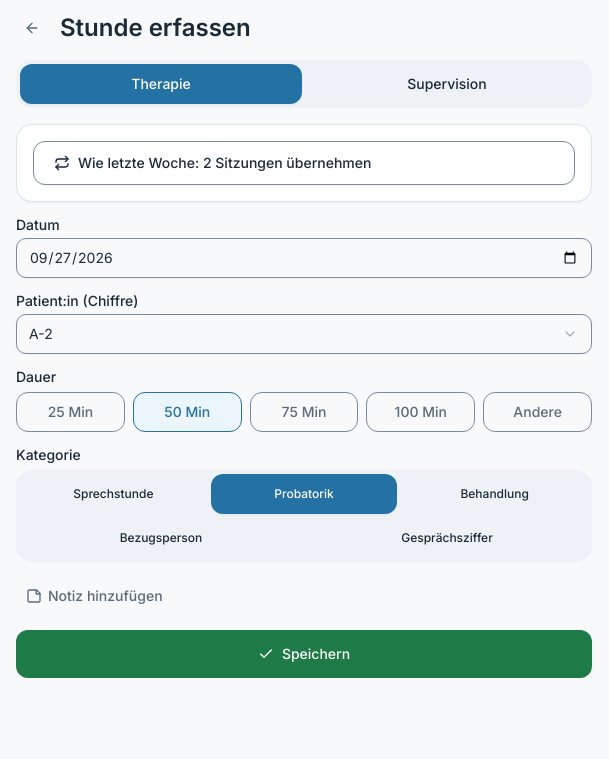
Scenario: NewSessionClient › hält die Notiz eingeklappt, bis sie gebraucht wird
Expected: the field labelled "Notiz (optional)" is not shown
Click the button "Notiz hinzufügen": (94, 596) left=16, top=578, right=173, bottom=614
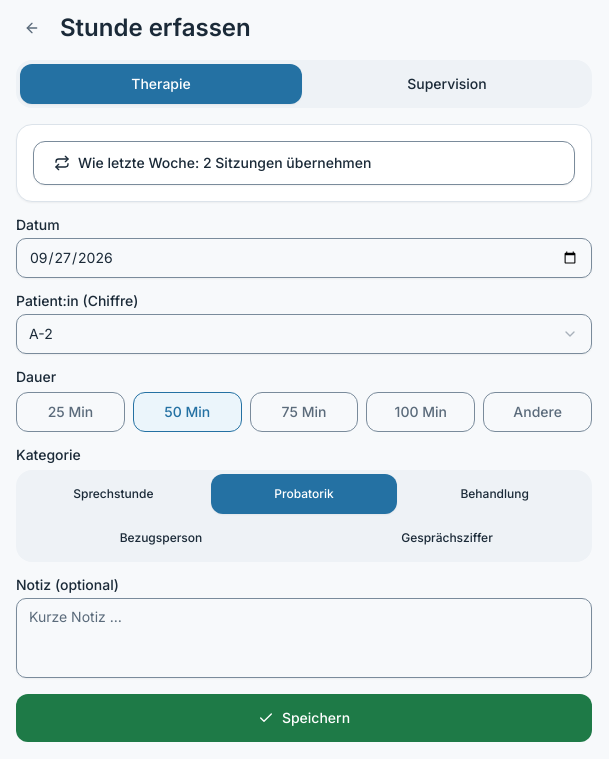
Expected: the text box labelled "Notiz (optional)" is shown, left=16, top=598, right=592, bottom=678
